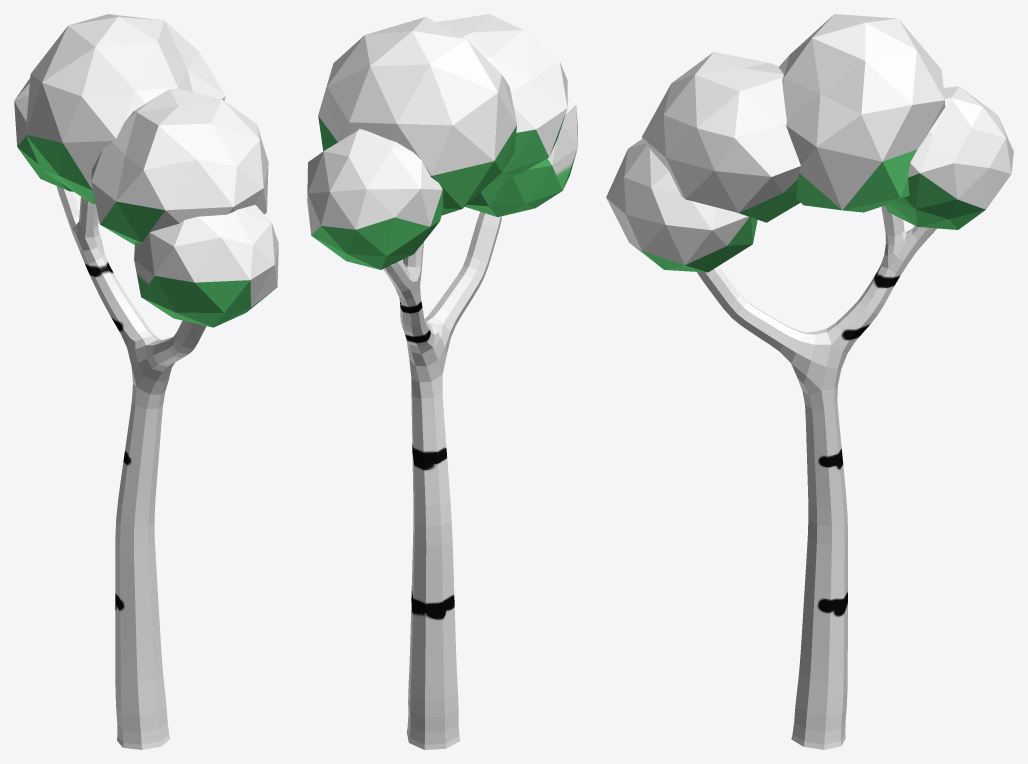
File: birch_2.gltf
3 views of the same model, side by side, from view 1: azimuth 30°, elevation 25°; view 2: azimuth 150°, elevation 25°; view 3: azimuth 270°, elevation 25° (orthographic). The views are drawn at different scales.
Visible parts, largest first — view 1: Cube; view 2: Cube; view 3: Cube.
Boxes of the visible parts, x1,y1,x2,y2 form: Cube: (14,14,278,749); Cube: (307,14,577,749); Cube: (606,14,1013,749).
Size of the model in its own units: 1.97 by 7.85 by 4.04.
1 material, 1 textured.
